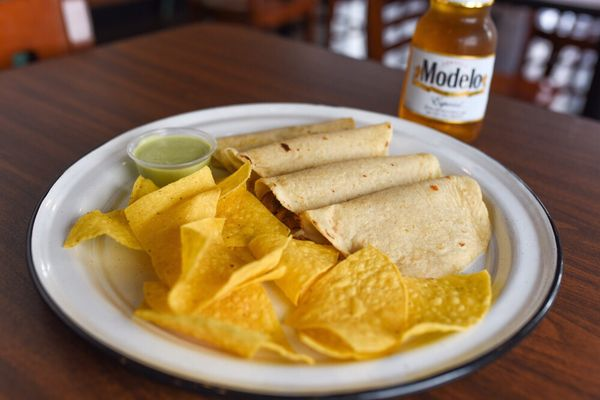pizza: (127, 128, 217, 187)
soup: (299, 174, 494, 281)
sushi: (127, 128, 217, 187)
